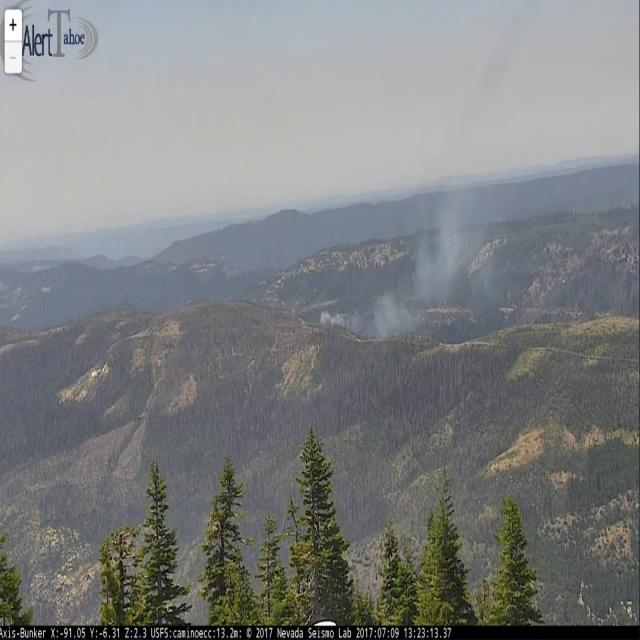smoke: (314, 153, 510, 354)
